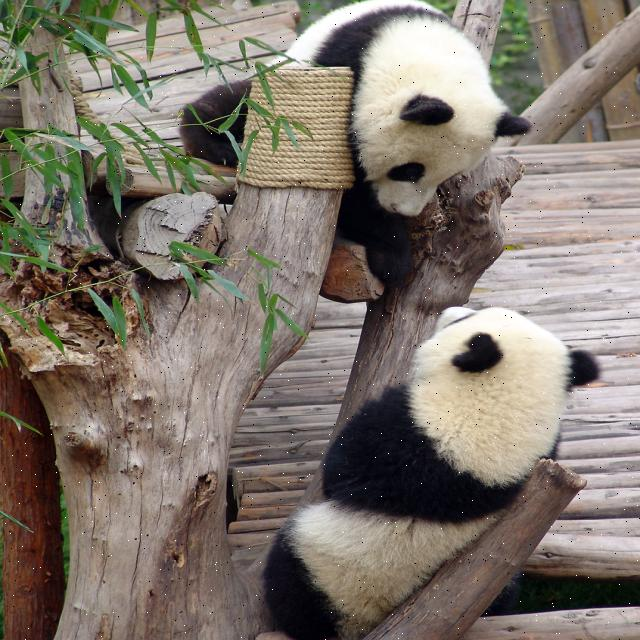panda: (264, 302, 599, 640), (175, 0, 534, 294)
